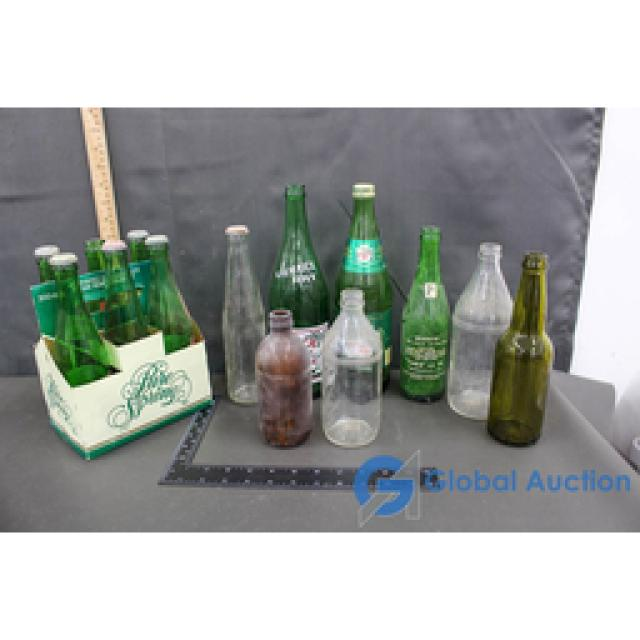glass_beverage_bottles: (494, 250, 558, 452), (402, 223, 453, 400), (45, 247, 107, 385)
